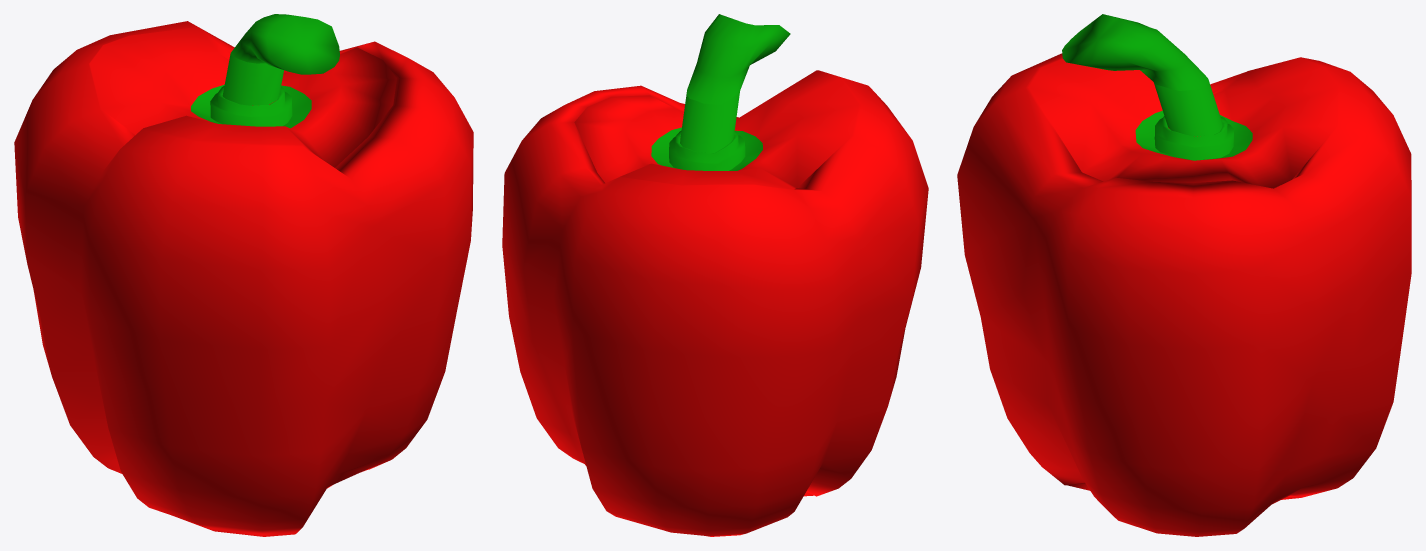
File: bell_pepper_red.dae
The picture shows the model from 3 angles, left to right: view 1: azimuth 30°, elevation 25°; view 2: azimuth 150°, elevation 25°; view 3: azimuth 270°, elevation 25°; orthographic projection. The views are drawn at different scales.
Parts seen in each view (by area): view 1: red_bell_pepper; view 2: red_bell_pepper; view 3: red_bell_pepper.
Boxes of the visible parts, left/top/right/bottom form: red_bell_pepper: left=14, top=14, right=473, bottom=536; red_bell_pepper: left=502, top=14, right=928, bottom=536; red_bell_pepper: left=957, top=14, right=1411, bottom=536.
Size of the model in its own units: 0.0712 by 0.0733 by 0.0847.
